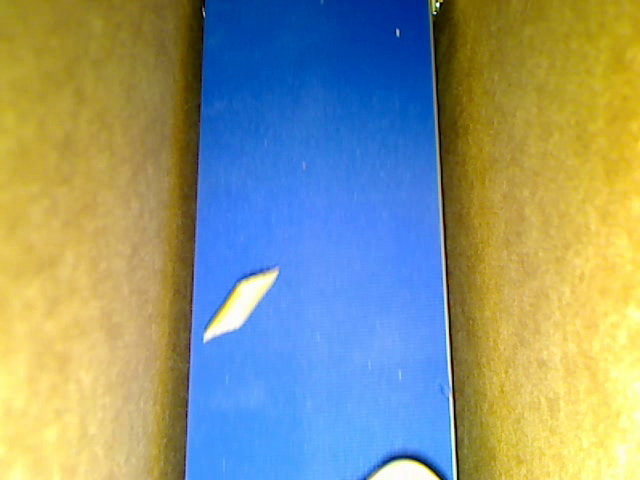penne: (202, 267, 280, 341)
